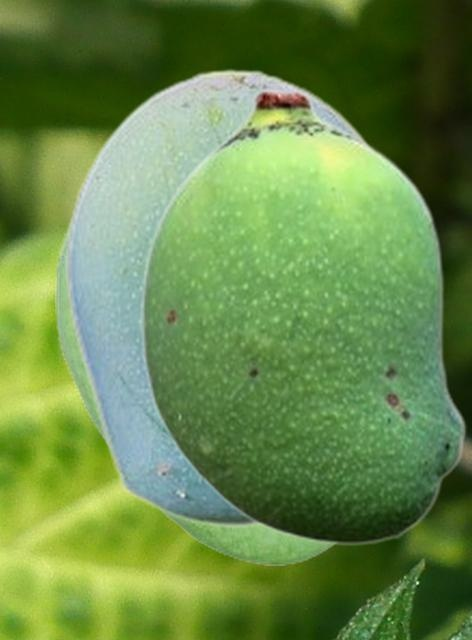green_mango: (140, 88, 466, 546), (63, 67, 375, 528), (55, 214, 337, 564)
